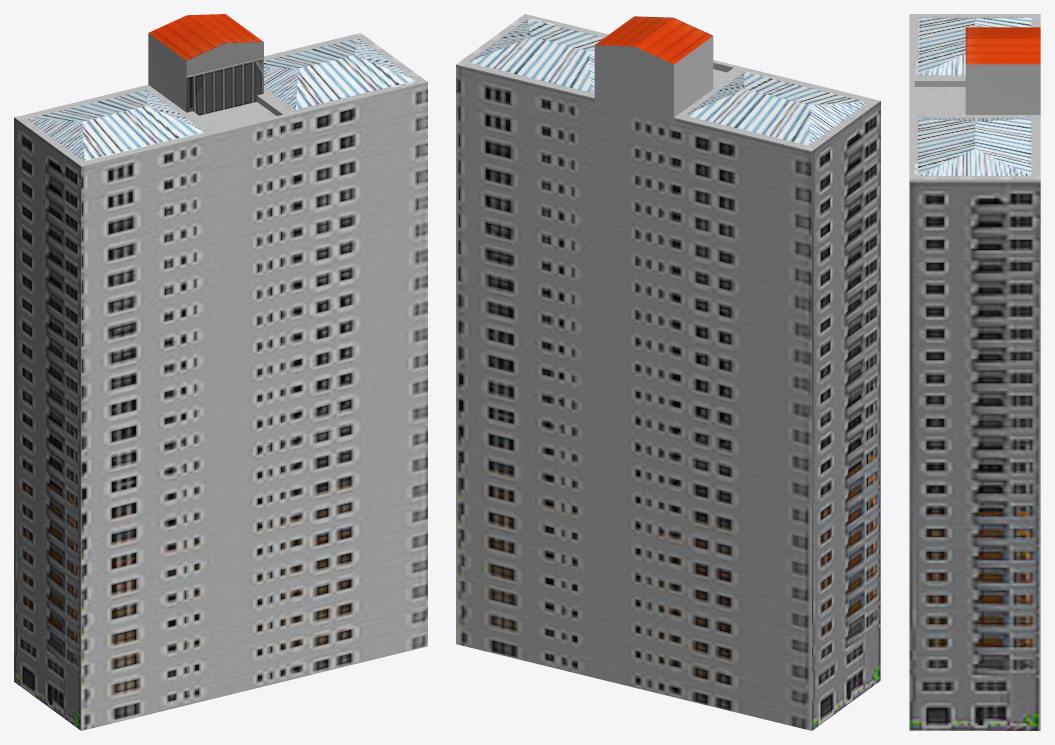
File: edificiotrasero2izquierdo.fbx
The picture shows the model from 3 angles, left to right: view 1: azimuth 30°, elevation 25°; view 2: azimuth 150°, elevation 25°; view 3: azimuth 270°, elevation 25°; orthographic projection. The views are drawn at different scales.
Parts seen in each view (by area): view 1: Cube; view 2: Cube; view 3: Cube.
Boxes of the visible parts, left/top/right/bottom form: Cube: left=14, top=14, right=427, bottom=730; Cube: left=456, top=14, right=880, bottom=730; Cube: left=909, top=14, right=1040, bottom=730.
Bounding box in the file's own units: 4499 × 7746 × 1511.
Materials: 4 (4 with a texture image).
